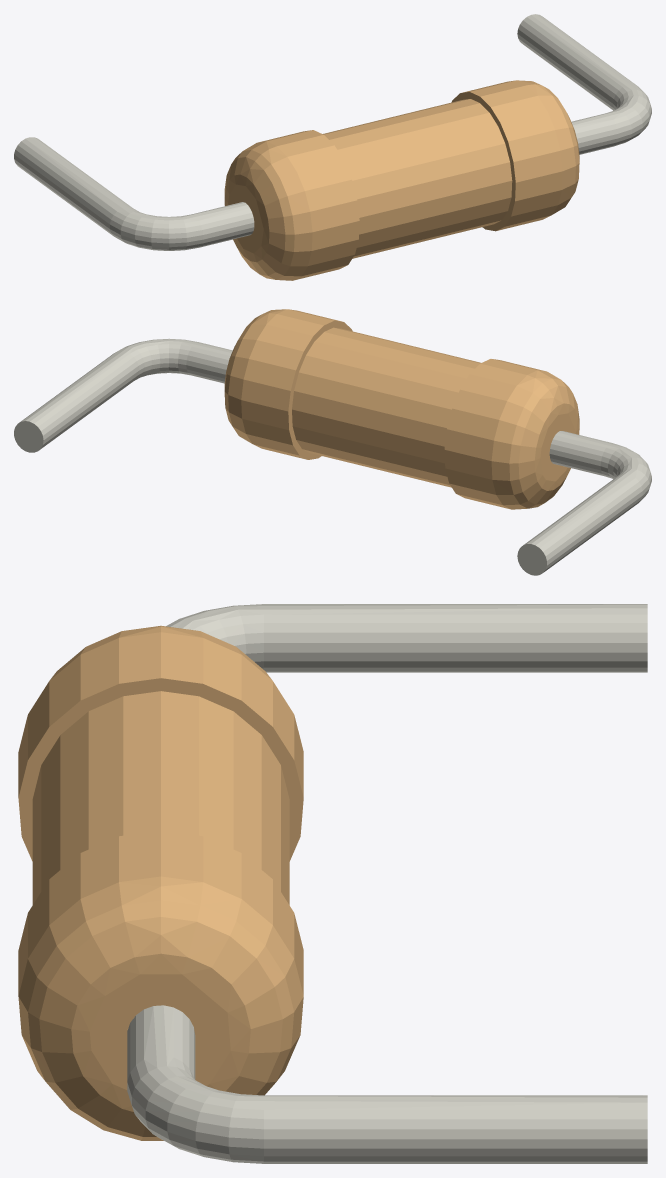
Rendered from resistor.glb.
3 views of the same model, one above another, from view 1: azimuth 30°, elevation 25°; view 2: azimuth 150°, elevation 25°; view 3: azimuth 270°, elevation 25° (orthographic). The views are drawn at different scales.
Visible parts, largest first — view 1: part0, part1; view 2: part0, part1; view 3: part0, part1.
Part boxes in pixels (x1,y1,x2,y2): part0: [224, 80, 579, 280]; part1: [14, 14, 651, 250]; part0: [224, 309, 579, 509]; part1: [14, 338, 651, 575]; part0: [18, 625, 303, 1140]; part1: [127, 604, 647, 1163].
Size of the model in its own units: 0.0108 by 0.00249 by 0.0055.
